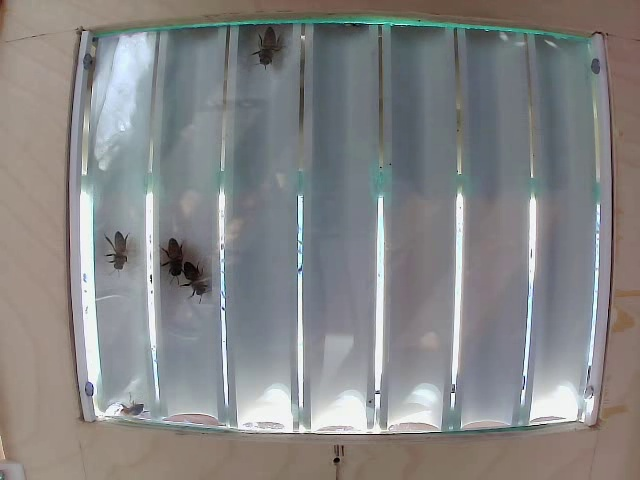bee: (175, 261, 208, 301), (154, 241, 183, 274), (95, 234, 127, 261)
